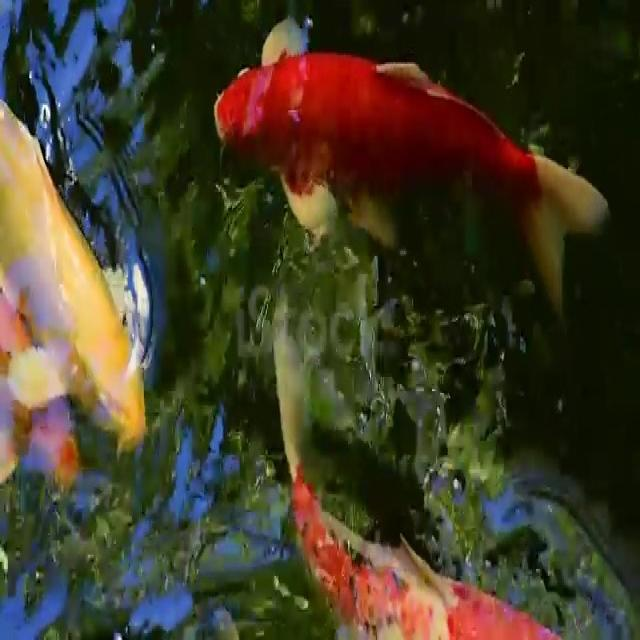fish: (217, 0, 600, 305), (258, 327, 572, 640), (0, 52, 190, 446), (0, 379, 103, 517)
